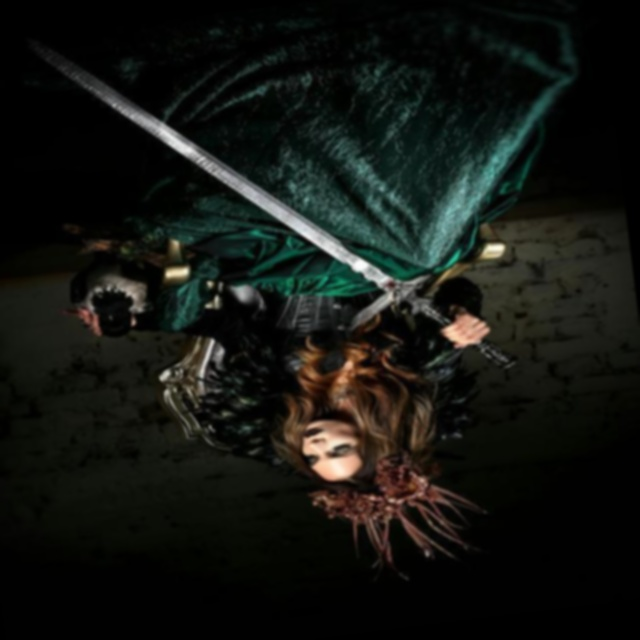Sharp-Object: (7, 0, 462, 412)
